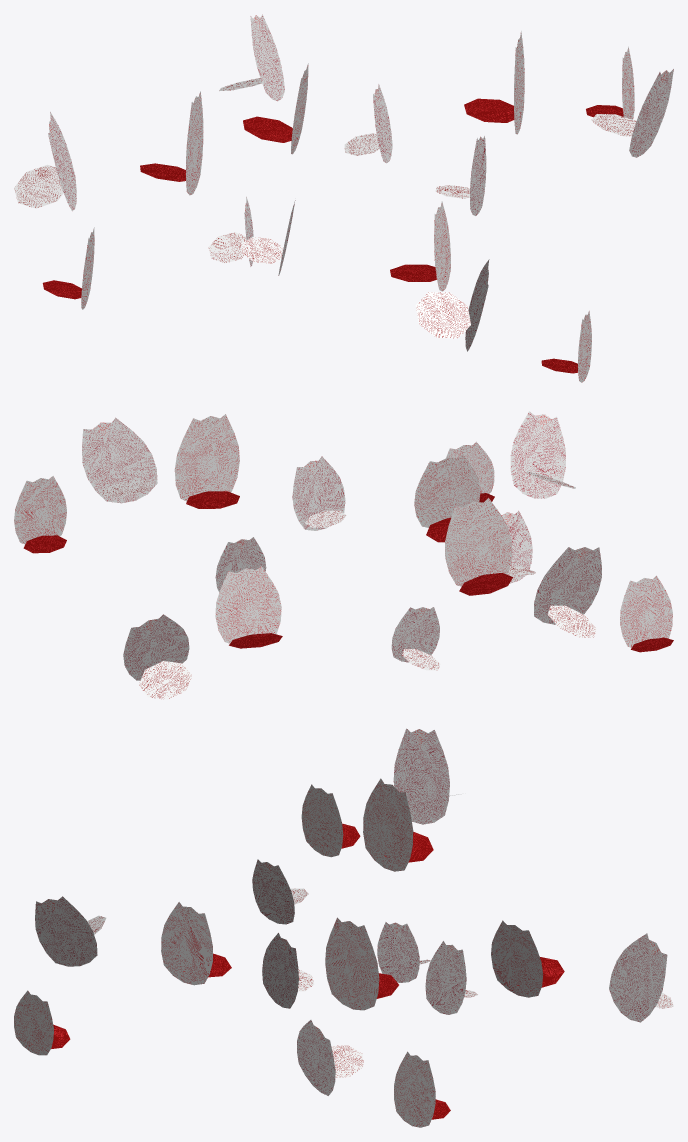
The model's file is BenchWithFlowers_flowers(red).obj.
3 renders of one model, top to bottom at view 1: azimuth 30°, elevation 25°; view 2: azimuth 150°, elevation 25°; view 3: azimuth 270°, elevation 25°, orthographic. The views are drawn at different scales.
Parts seen in each view (by area): view 1: Mesh31 Group11 tulip_1_6 Component_15_1 Model, Mesh23 tulip_1_4 Component_15_1 Model, Mesh38 tulip_1_7 Component_15_1 Model, Mesh16 Group6 tulip_1_3 Component_15_1 Model, Mesh41 tulip_2_7 Component_15_1 Model, Mesh17 tulip_1_3 Component_15_1 Model, Mesh11 tulip_2_2 Component_15_1 Model, Mesh26 tulip_1_5 Component_15_1 Model, Mesh13 Group5 tulip_2_3 Component_15_1 Model, Mesh5 tulip_1_2 Component_15_1 Model, Mesh32 tulip_1_6 Component_15_1 Model, Mesh7 Group3 tulip_2_1 Component_15_1 Model (+12 smaller); view 2: Mesh41 tulip_2_7 Component_15_1 Model, Mesh14 tulip_2_3 Component_15_1 Model, Mesh23 tulip_1_4 Component_15_1 Model, Mesh8 tulip_2_1 Component_15_1 Model, Mesh32 tulip_1_6 Component_15_1 Model, Mesh17 tulip_1_3 Component_15_1 Model, Mesh11 tulip_2_2 Component_15_1 Model, Mesh20 tulip_2_4 Component_15_1 Model, Mesh38 tulip_1_7 Component_15_1 Model, Mesh35 tulip_2_6 Component_15_1 Model, Mesh26 tulip_1_5 Component_15_1 Model, Mesh44 tulip_1_8 Component_15_1 Model (+12 smaller); view 3: Mesh17 tulip_1_3 Component_15_1 Model, Mesh14 tulip_2_3 Component_15_1 Model, Mesh38 tulip_1_7 Component_15_1 Model, Mesh41 tulip_2_7 Component_15_1 Model, Mesh11 tulip_2_2 Component_15_1 Model, Mesh32 tulip_1_6 Component_15_1 Model, Mesh8 tulip_2_1 Component_15_1 Model, Mesh35 tulip_2_6 Component_15_1 Model, Mesh5 tulip_1_2 Component_15_1 Model, Mesh20 tulip_2_4 Component_15_1 Model, Mesh26 tulip_1_5 Component_15_1 Model, Mesh44 tulip_1_8 Component_15_1 Model (+4 smaller).
Part boxes in pixels (bbox=[...]): Mesh31 Group11 tulip_1_6 Component_15_1 Model: bbox=[415, 292, 470, 338]; Mesh23 tulip_1_4 Component_15_1 Model: bbox=[629, 69, 673, 157]; Mesh38 tulip_1_7 Component_15_1 Model: bbox=[250, 14, 284, 101]; Mesh16 Group6 tulip_1_3 Component_15_1 Model: bbox=[14, 164, 63, 208]; Mesh41 tulip_2_7 Component_15_1 Model: bbox=[186, 91, 203, 195]; Mesh17 tulip_1_3 Component_15_1 Model: bbox=[48, 111, 76, 210]; Mesh11 tulip_2_2 Component_15_1 Model: bbox=[434, 201, 450, 291]; Mesh26 tulip_1_5 Component_15_1 Model: bbox=[470, 136, 486, 215]; Mesh13 Group5 tulip_2_3 Component_15_1 Model: bbox=[464, 98, 520, 122]; Mesh5 tulip_1_2 Component_15_1 Model: bbox=[373, 84, 392, 163]; Mesh32 tulip_1_6 Component_15_1 Model: bbox=[465, 259, 489, 351]; Mesh7 Group3 tulip_2_1 Component_15_1 Model: bbox=[243, 116, 297, 142]; Mesh41 tulip_2_7 Component_15_1 Model: bbox=[445, 498, 512, 586]; Mesh14 tulip_2_3 Component_15_1 Model: bbox=[174, 414, 239, 501]; Mesh23 tulip_1_4 Component_15_1 Model: bbox=[82, 417, 157, 503]; Mesh8 tulip_2_1 Component_15_1 Model: bbox=[215, 566, 281, 643]; Mesh32 tulip_1_6 Component_15_1 Model: bbox=[510, 411, 565, 498]; Mesh17 tulip_1_3 Component_15_1 Model: bbox=[534, 547, 601, 624]; Mesh11 tulip_2_2 Component_15_1 Model: bbox=[414, 454, 480, 527]; Mesh20 tulip_2_4 Component_15_1 Model: bbox=[620, 575, 672, 647]; Mesh38 tulip_1_7 Component_15_1 Model: bbox=[123, 614, 189, 680]; Mesh35 tulip_2_6 Component_15_1 Model: bbox=[14, 476, 66, 544]; Mesh26 tulip_1_5 Component_15_1 Model: bbox=[292, 456, 345, 530]; Mesh44 tulip_1_8 Component_15_1 Model: bbox=[391, 607, 439, 662]; Mesh17 tulip_1_3 Component_15_1 Model: bbox=[393, 728, 449, 824]; Mesh14 tulip_2_3 Component_15_1 Model: bbox=[325, 917, 379, 1010]; Mesh38 tulip_1_7 Component_15_1 Model: bbox=[609, 933, 667, 1022]; Mesh41 tulip_2_7 Component_15_1 Model: bbox=[363, 778, 413, 871]; Mesh11 tulip_2_2 Component_15_1 Model: bbox=[161, 902, 212, 985]; Mesh32 tulip_1_6 Component_15_1 Model: bbox=[35, 896, 97, 966]; Mesh8 tulip_2_1 Component_15_1 Model: bbox=[491, 920, 543, 997]; Mesh35 tulip_2_6 Component_15_1 Model: bbox=[394, 1051, 435, 1127]; Mesh5 tulip_1_2 Component_15_1 Model: bbox=[425, 941, 466, 1014]; Mesh20 tulip_2_4 Component_15_1 Model: bbox=[301, 784, 343, 857]; Mesh26 tulip_1_5 Component_15_1 Model: bbox=[262, 933, 298, 1008]; Mesh44 tulip_1_8 Component_15_1 Model: bbox=[377, 922, 419, 982].
Size of the model in its own units: 702 by 202 by 669.
